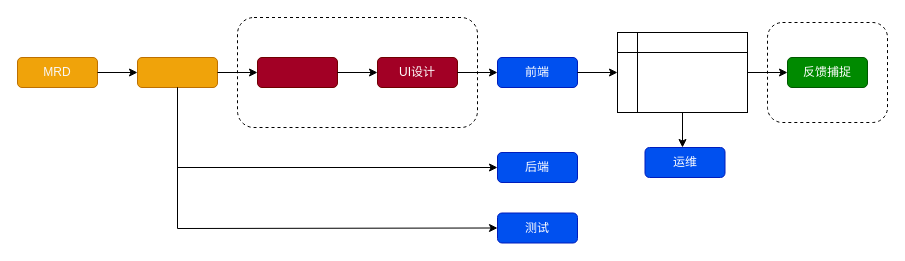
The diagram is 905 pixels wide and 261 high, and some of its shapes have lost their labels. Each missing label, with the box of its shape:
iot.longfor.com: (616, 32, 748, 112)
PRD: (136, 56, 218, 88)
交互设计: (256, 56, 338, 88)
